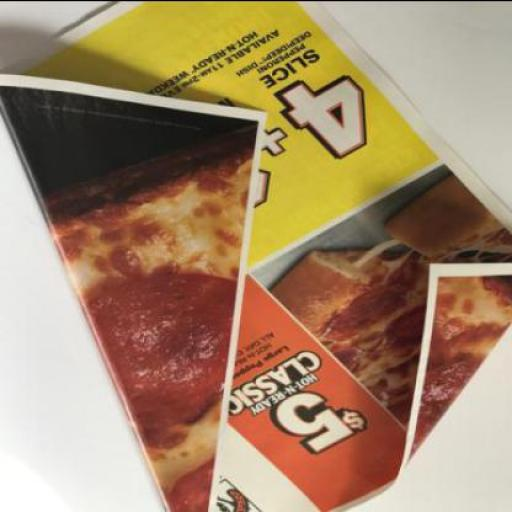paper: (0, 1, 512, 511)
